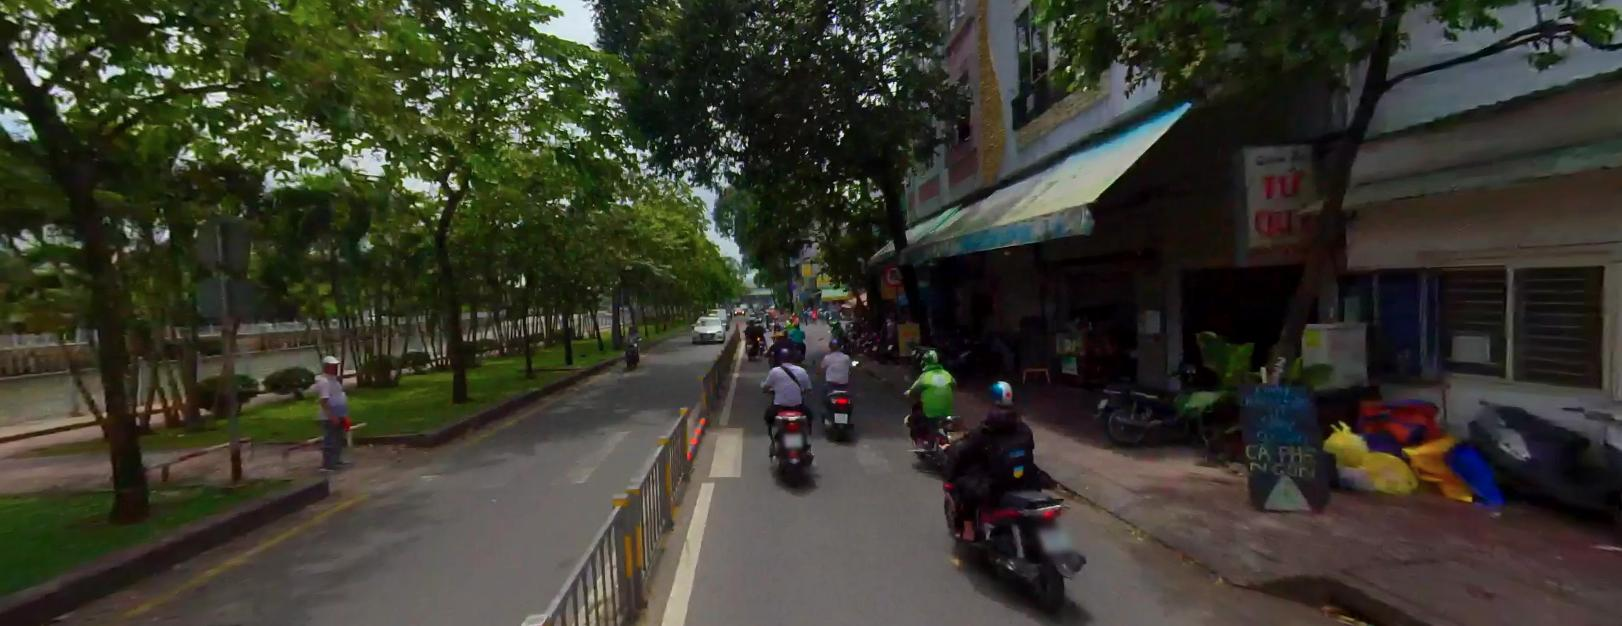Cam dung va do: (788, 280, 797, 289)
Cam re: (885, 261, 905, 285)
